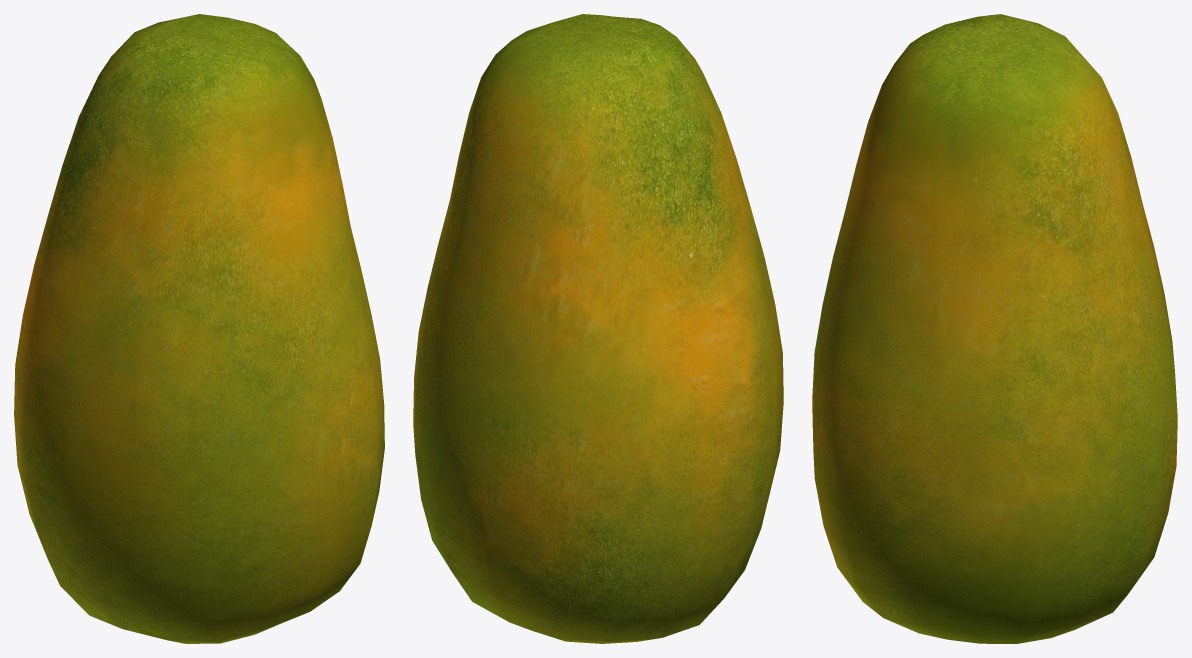
File: Papaya.FBX
The picture shows the model from 3 angles, left to right: view 1: azimuth 30°, elevation 25°; view 2: azimuth 150°, elevation 25°; view 3: azimuth 270°, elevation 25°; orthographic projection.
Parts seen in each view (by area): view 1: Papaya02; view 2: Papaya02; view 3: Papaya02.
Part boxes in pixels (box(x1,y1,x2,y2)): Papaya02: box(14, 14, 384, 643); Papaya02: box(413, 14, 783, 643); Papaya02: box(812, 14, 1177, 643).
Bounding box in the file's own units: 34.68 × 59.07 × 33.46.
